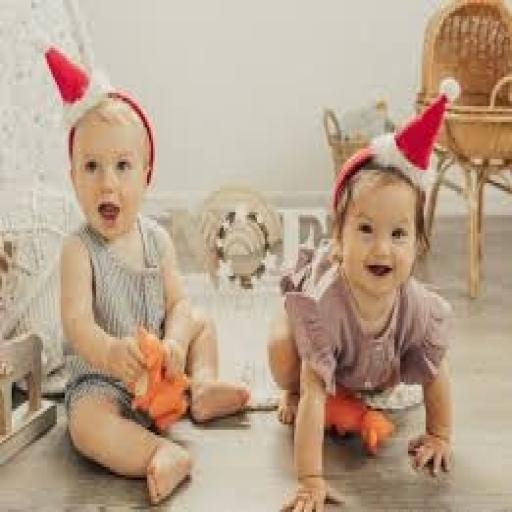baby: (46, 48, 249, 504), (269, 83, 459, 511)
